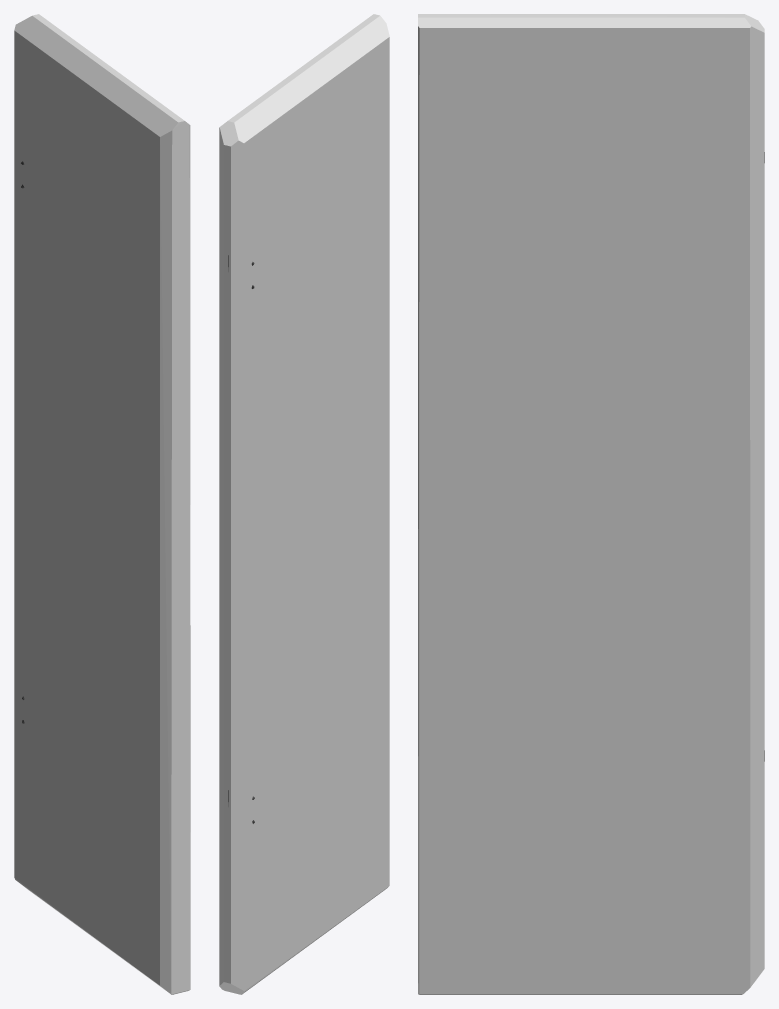
The model's file is SM_separate_window_shutter_01.fbx.
3 views of the same model, side by side, from view 1: azimuth 30°, elevation 25°; view 2: azimuth 150°, elevation 25°; view 3: azimuth 270°, elevation 25° (orthographic). The views are drawn at different scales.
Parts seen in each view (by area): view 1: SM_separate_window_shutter_01_ConvexHulls; view 2: SM_separate_window_shutter_01_ConvexHulls; view 3: SM_separate_window_shutter_01_ConvexHulls.
Part boxes in pixels (bbox=[...]): SM_separate_window_shutter_01_ConvexHulls: bbox=[14, 14, 190, 994]; SM_separate_window_shutter_01_ConvexHulls: bbox=[219, 14, 389, 994]; SM_separate_window_shutter_01_ConvexHulls: bbox=[418, 14, 764, 994].
Bounding box in the file's own units: 10.33 × 97.43 × 302.
